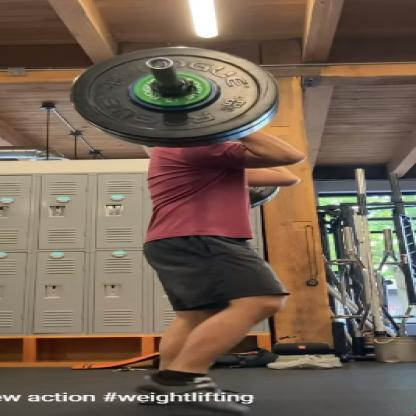Barbell: (48, 42, 298, 149)
